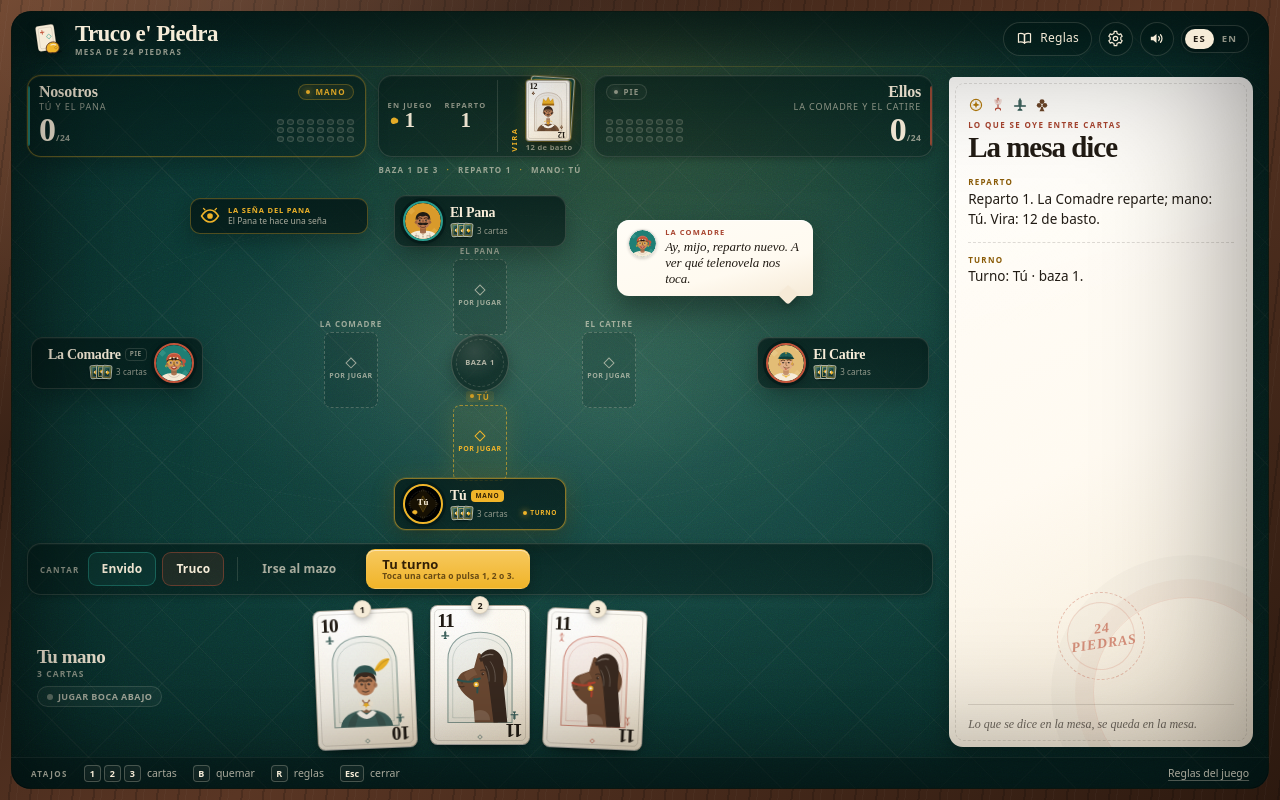
Test: the mesa shell › opens the rules school, switches tabs with the keyboard and returns focus
Click the button with aria-label "Abrir la escuela de reglas" at x=1048, y=39, box [1003, 22, 1092, 56]
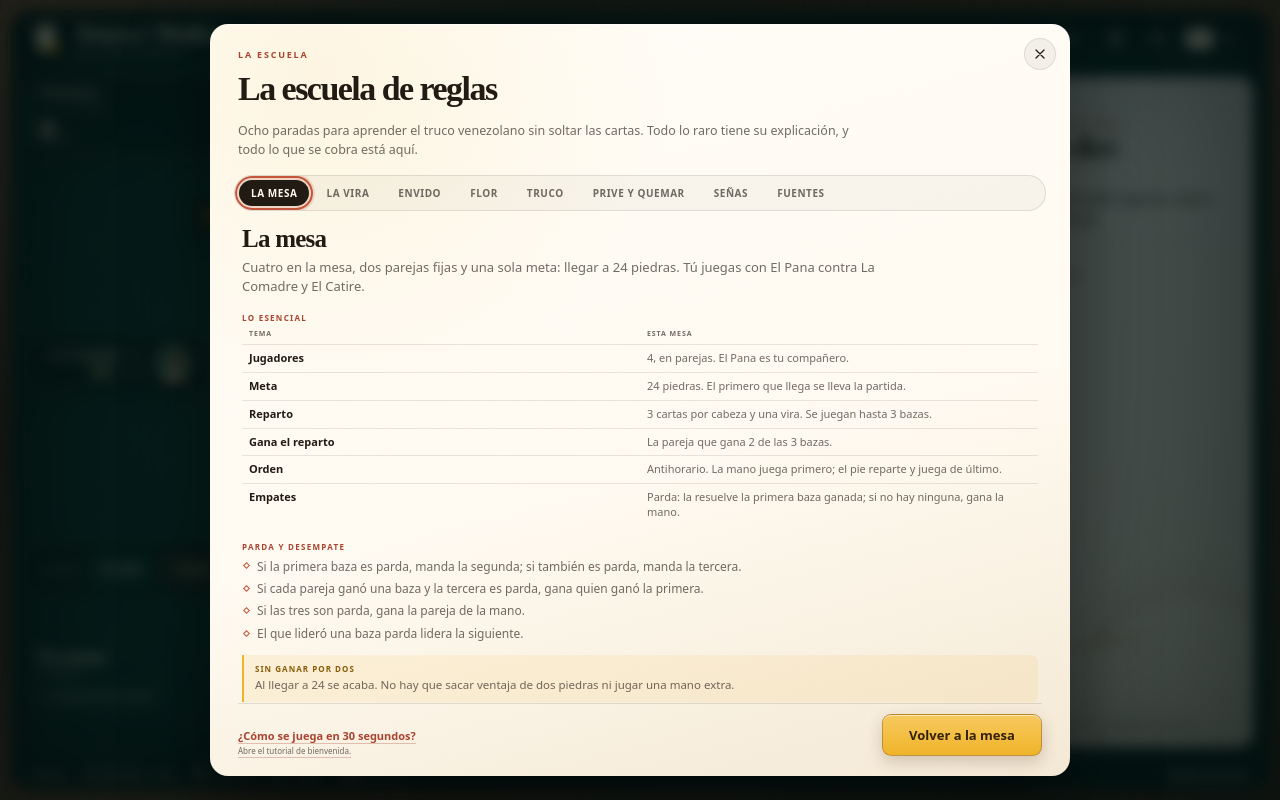
Expected: the panel shows "Lo esencial", [242, 312, 307, 323]
Press Arrowright
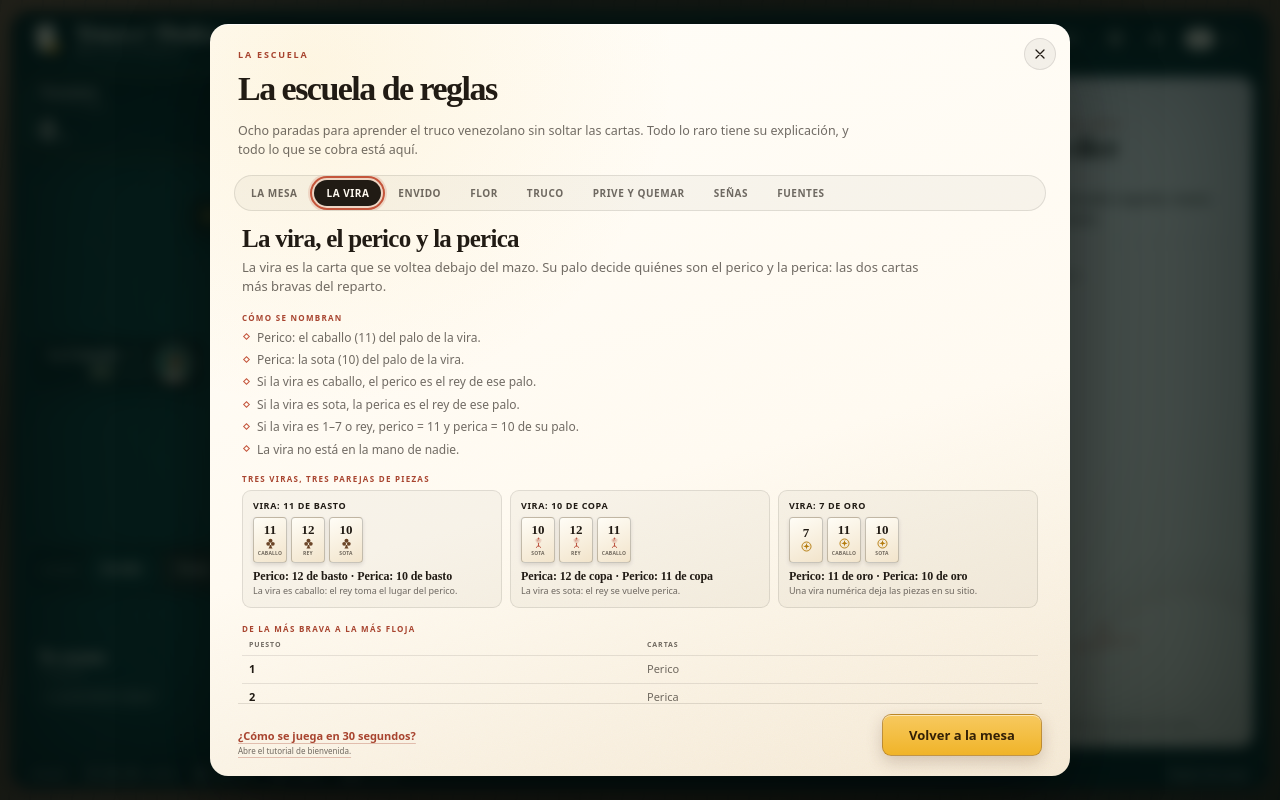
Expected: the tab "La vira" is selected, [314, 180, 381, 206]
Press End
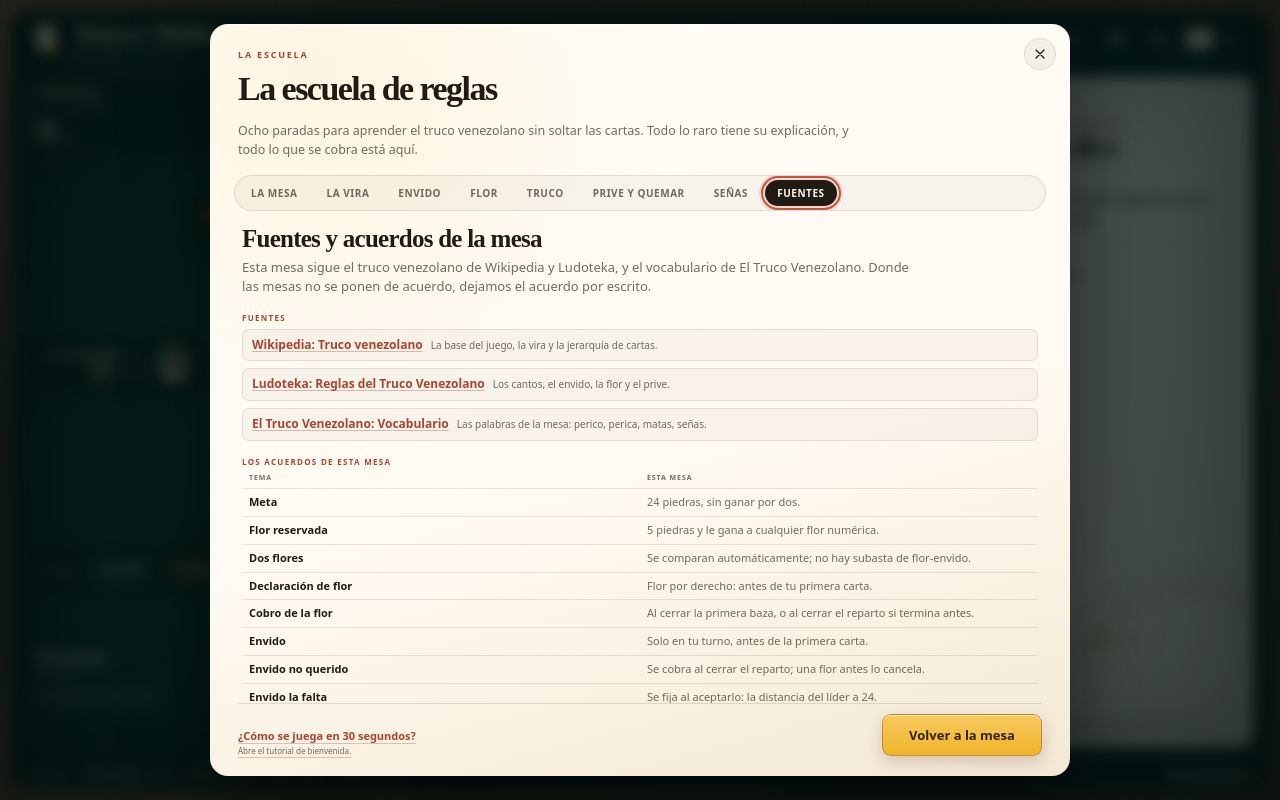
Expected: the tab "Fuentes" is selected, [765, 180, 837, 206]
Press Escape
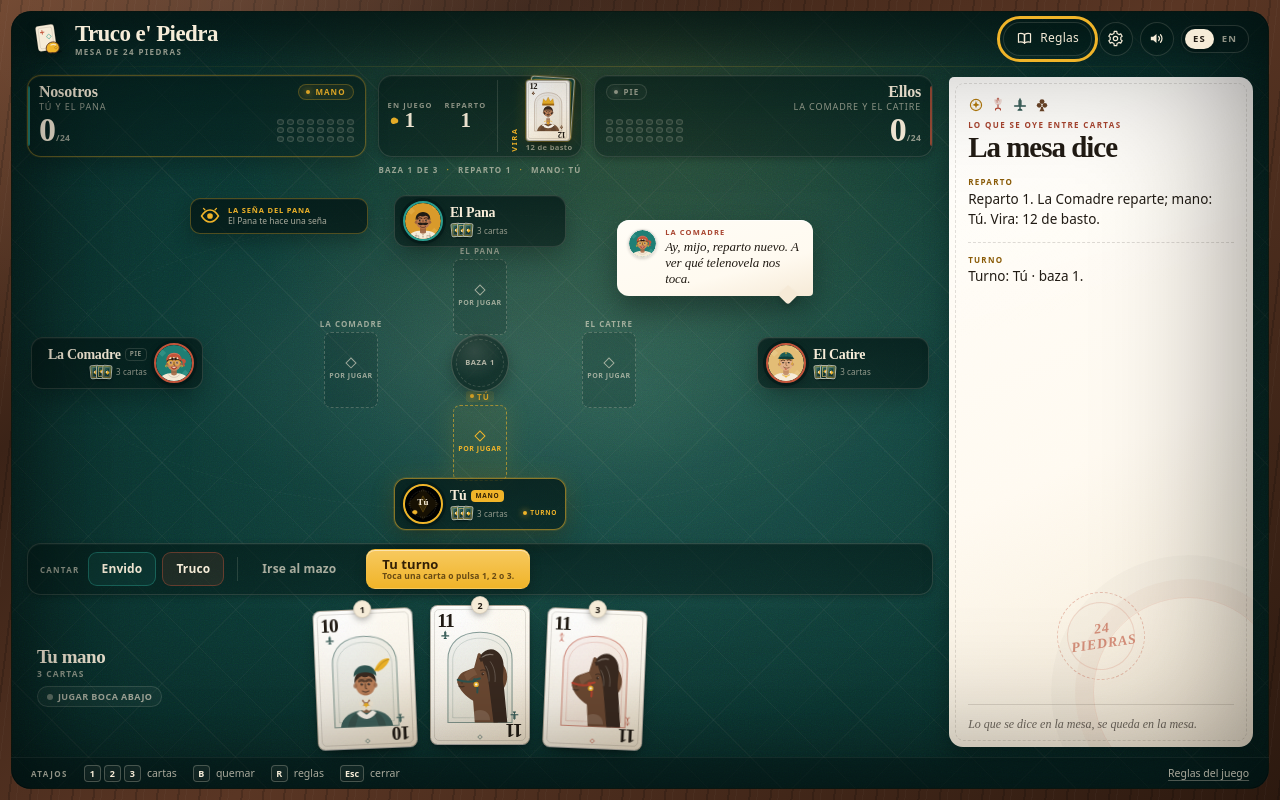
Expected: the dialog is gone
